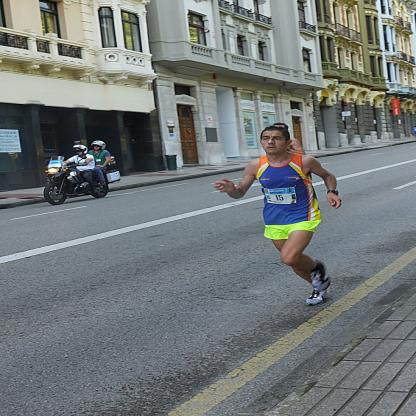Helmet: (70, 145, 90, 156), (90, 140, 107, 152)
